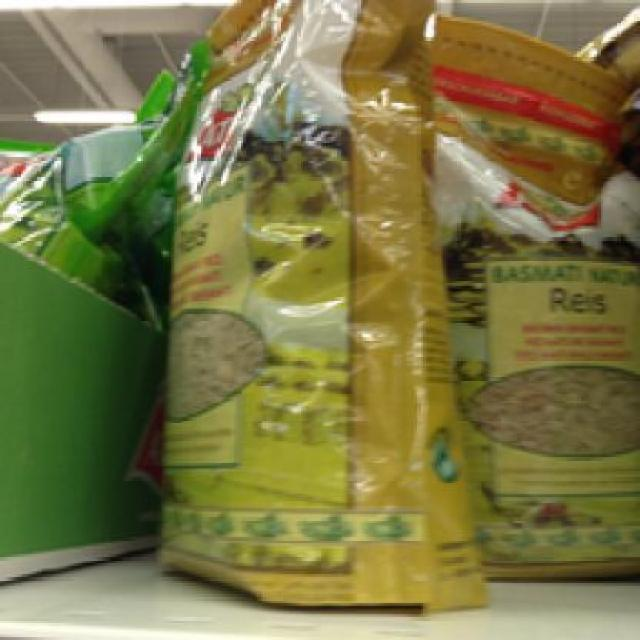Rice: (167, 0, 483, 612), (428, 122, 638, 578)
